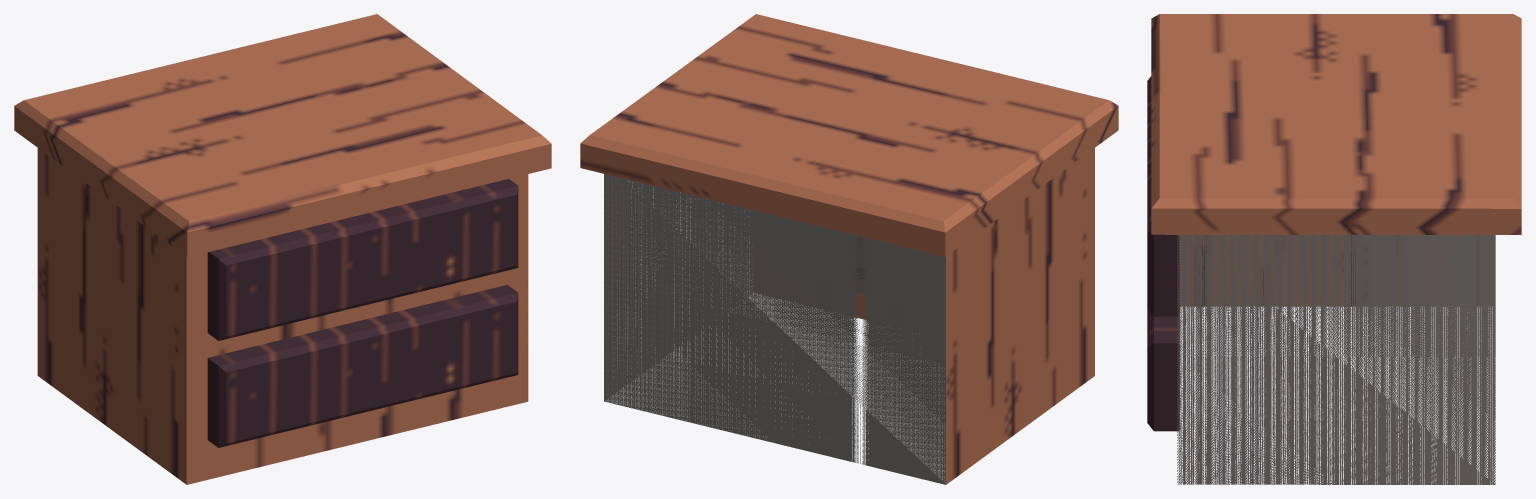
Rendered from GabinetePequeno.fbx.
The picture shows the model from 3 angles, left to right: view 1: azimuth 30°, elevation 25°; view 2: azimuth 150°, elevation 25°; view 3: azimuth 270°, elevation 25°; orthographic projection. The views are drawn at different scales.
Visible parts, largest first — view 1: GabinetePequeno; view 2: GabinetePequeno; view 3: GabinetePequeno.
Boxes of the visible parts, x1,y1,x2,y2 form: GabinetePequeno: [14, 14, 551, 484]; GabinetePequeno: [580, 14, 1118, 484]; GabinetePequeno: [1147, 14, 1521, 484].
Size of the model in its own units: 110 by 91.16 by 77.8.
